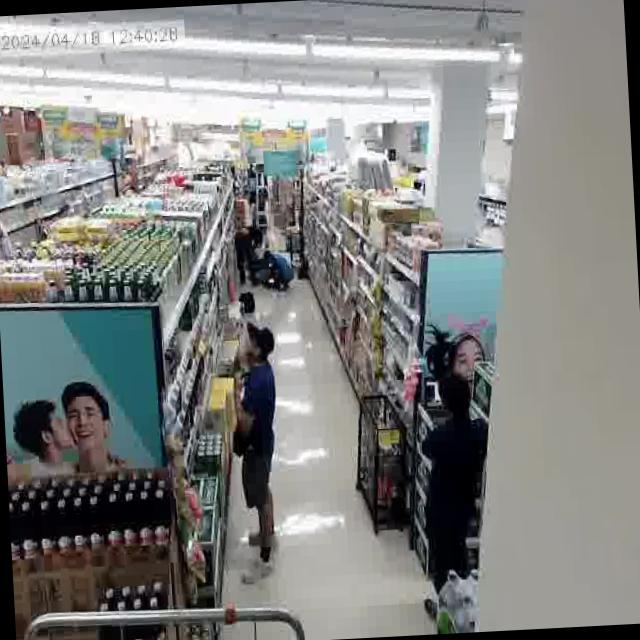shoplifting: (220, 314, 298, 594)
